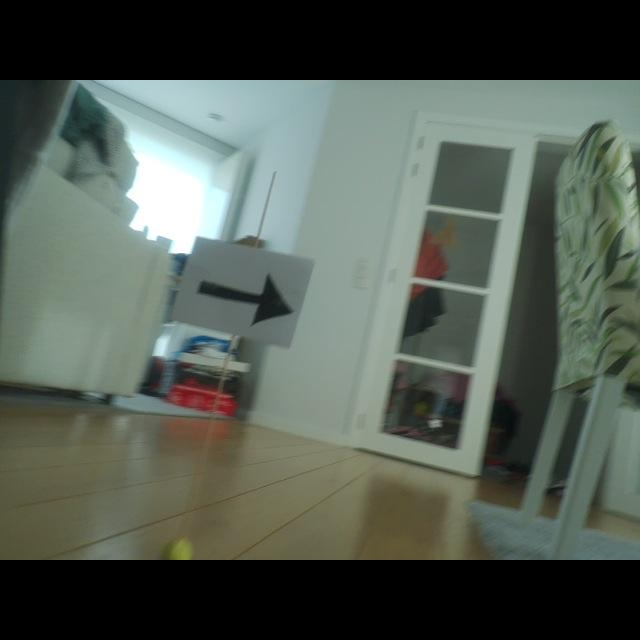jobbra_nyil: (198, 275, 292, 324)
